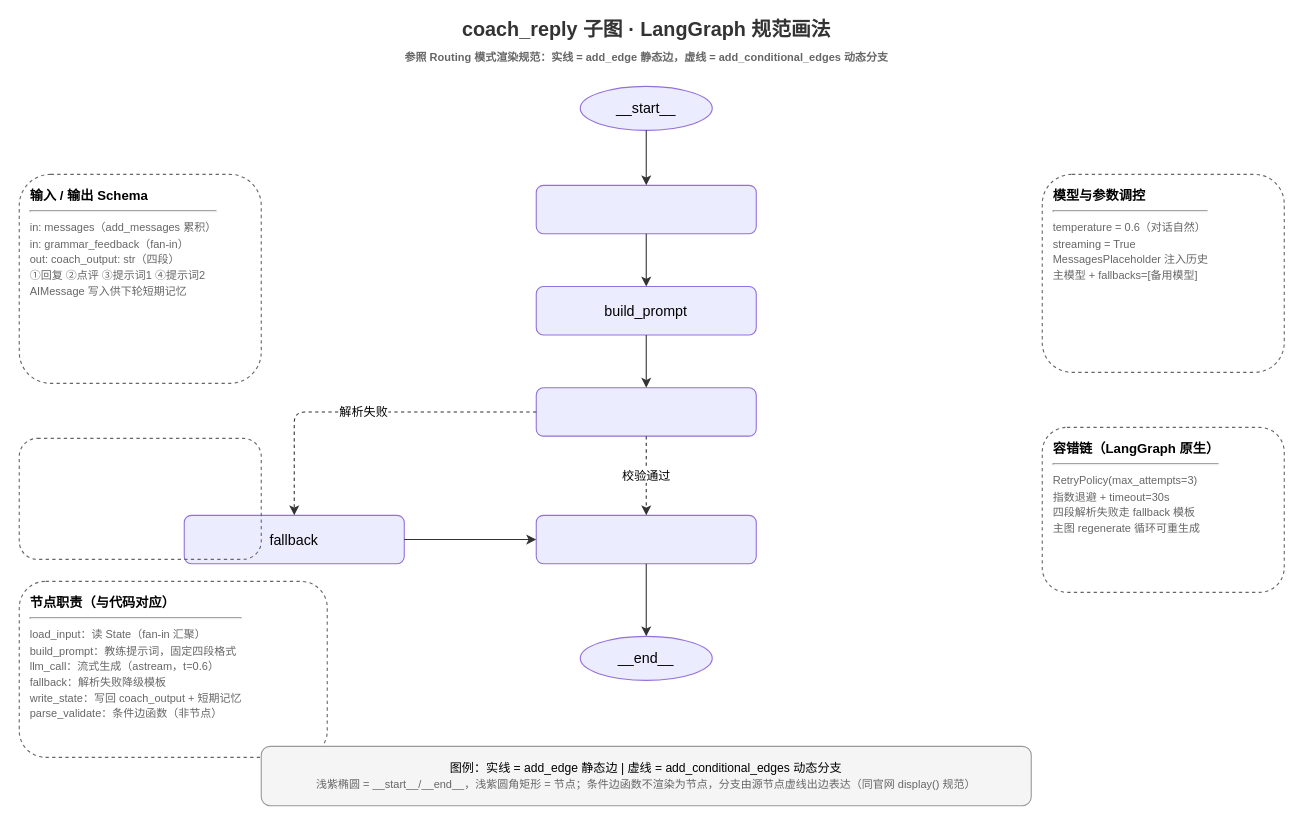
Image size: 1304x825. Some labels were removed from this diagram. The centre of each missing label's shape, as x and y in pixels:
"llm_call" belongs at point (645, 411).
"load_input" belongs at point (645, 209).
"write_state" belongs at point (645, 539).
"可观测性 LangSmith trace 全链路 astream 流式 + 首字延迟统计" belongs at point (139, 498).
